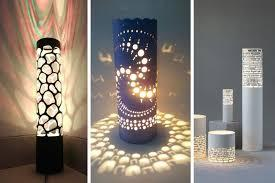Lamp: (112, 9, 171, 149), (34, 35, 72, 173), (233, 39, 268, 158), (203, 126, 236, 163), (217, 77, 237, 129), (192, 110, 209, 162)
